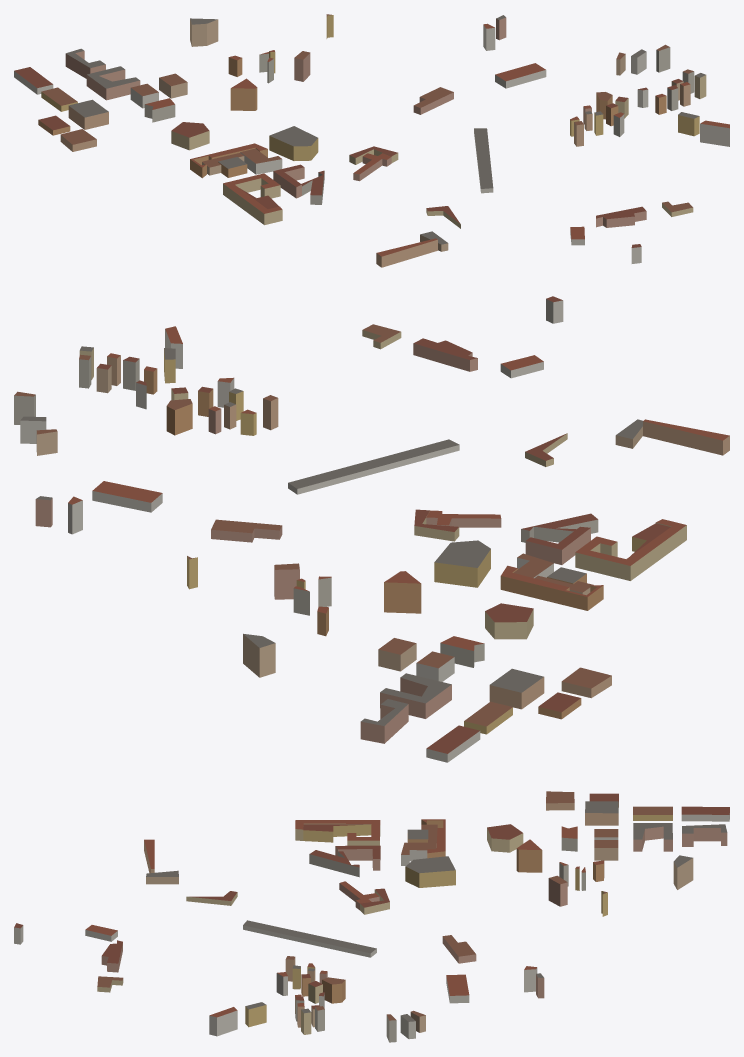
Rendered from SM_Fondale_Citta_N_01_LOD2.fbx.
3 renders of one model, top to bottom at view 1: azimuth 30°, elevation 25°; view 2: azimuth 150°, elevation 25°; view 3: azimuth 270°, elevation 25°, orthographic. The views are drawn at different scales.
Parts seen in each view (by area): view 1: SM_Fondale_Citta_N_01_LOD2; view 2: SM_Fondale_Citta_N_01_LOD2; view 3: SM_Fondale_Citta_N_01_LOD2.
Boxes of the visible parts, box(x1,y1,x2,y2) form: SM_Fondale_Citta_N_01_LOD2: box(14, 14, 729, 267); SM_Fondale_Citta_N_01_LOD2: box(14, 296, 729, 762); SM_Fondale_Citta_N_01_LOD2: box(14, 791, 729, 1042).
Bounding box in the file's own units: 80417 × 94559 × 6851.
